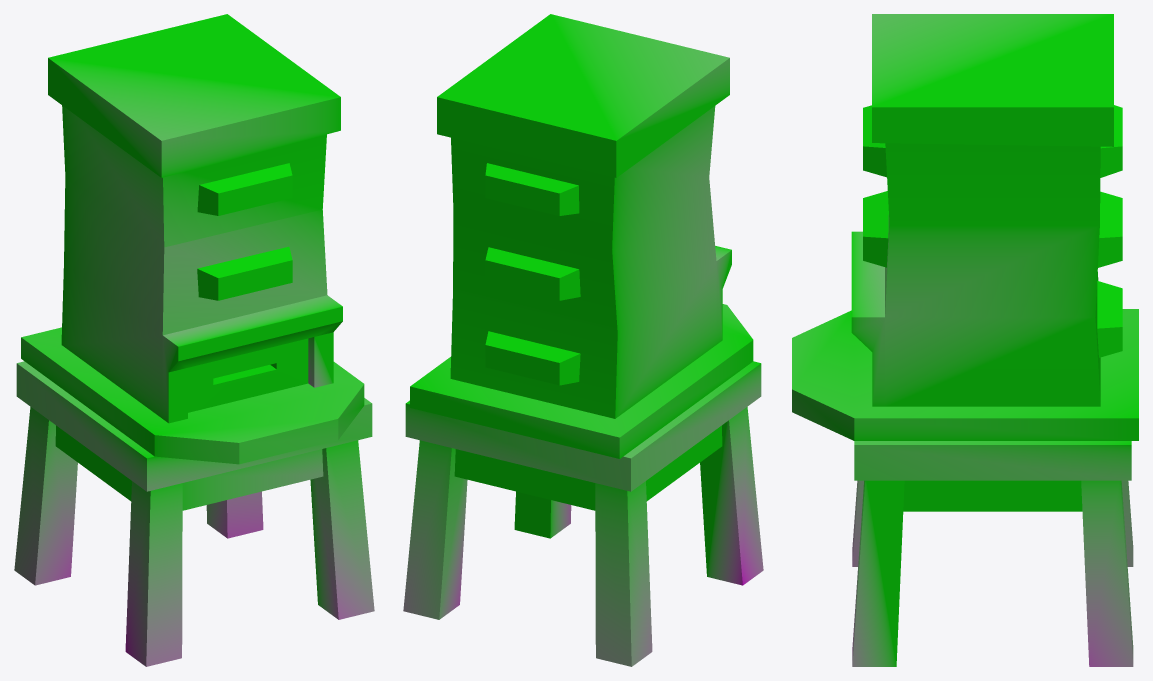
3 views of the same model, side by side, from view 1: azimuth 30°, elevation 25°; view 2: azimuth 150°, elevation 25°; view 3: azimuth 270°, elevation 25° (orthographic). The views are drawn at different scales.
Parts seen in each view (by area): view 1: G:\FFXIV-MapTools\exports\f1f2\bg\ffxiv\fst_f1\fld\f1f2\bgpa; view 2: G:\FFXIV-MapTools\exports\f1f2\bg\ffxiv\fst_f1\fld\f1f2\bgpa; view 3: G:\FFXIV-MapTools\exports\f1f2\bg\ffxiv\fst_f1\fld\f1f2\bgpa.
Part boxes in pixels (left/top/right/bottom): G:\FFXIV-MapTools\exports\f1f2\bg\ffxiv\fst_f1\fld\f1f2\bgpa: left=14, top=14, right=374, bottom=666; G:\FFXIV-MapTools\exports\f1f2\bg\ffxiv\fst_f1\fld\f1f2\bgpa: left=403, top=14, right=763, bottom=666; G:\FFXIV-MapTools\exports\f1f2\bg\ffxiv\fst_f1\fld\f1f2\bgpa: left=792, top=14, right=1138, bottom=666.
Bounding box in the file's own units: 1.04 × 2.24 × 1.29.
